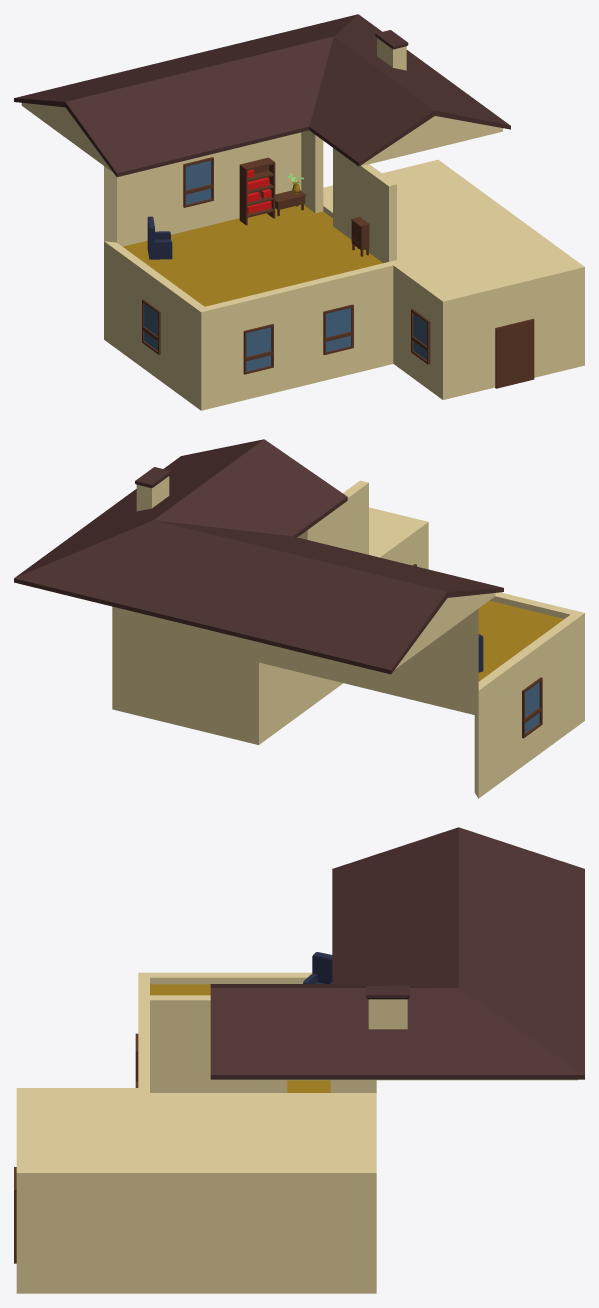
The model's file is mesh_AmchaHouse.fbx.
3 renders of one model, top to bottom at view 1: azimuth 30°, elevation 25°; view 2: azimuth 150°, elevation 25°; view 3: azimuth 270°, elevation 25°, orthographic. The views are drawn at different scales.
Visible parts, largest first — view 1: mesh_AmchaHouse; view 2: mesh_AmchaHouse; view 3: mesh_AmchaHouse.
Boxes of the visible parts, box(x1,y1,x2,y2) form: mesh_AmchaHouse: box(14, 14, 584, 410); mesh_AmchaHouse: box(14, 439, 584, 798); mesh_AmchaHouse: box(14, 827, 584, 1293).
Size of the model in its own units: 950 by 599 by 1112.
